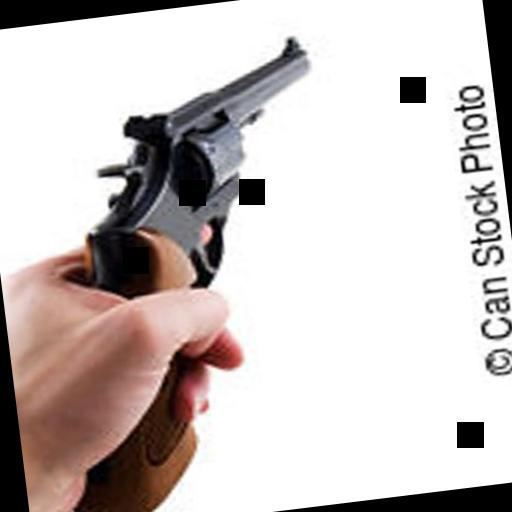Handgun: (8, 27, 362, 512)
